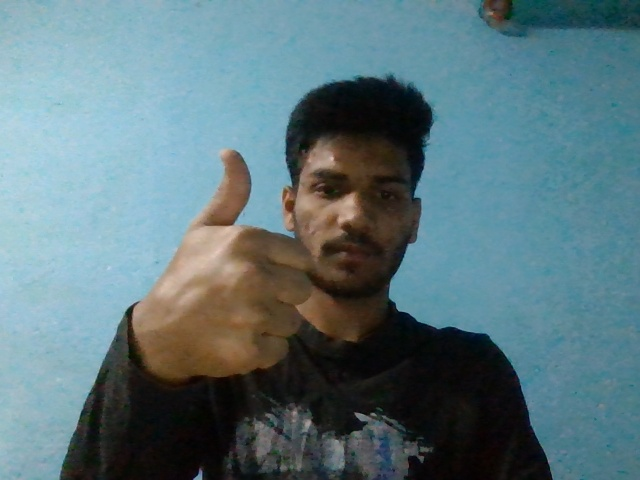ThumbsUp: (160, 148, 313, 377)
